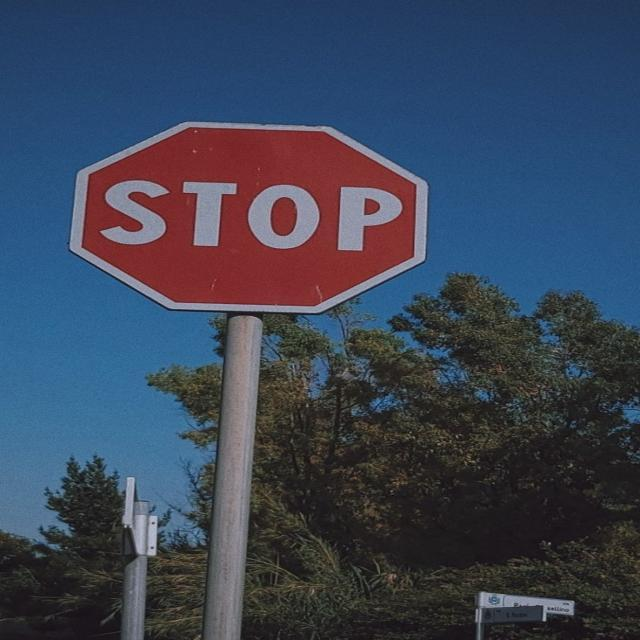stop: (68, 119, 429, 315)
